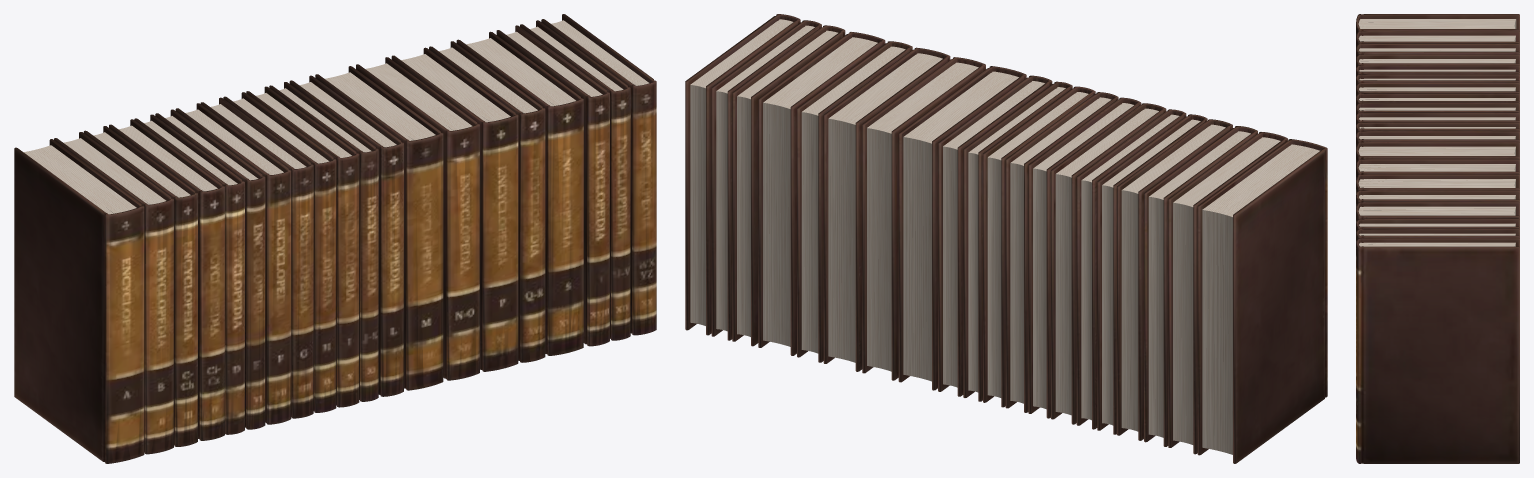
File: book_encyclopedia_set_01.glb
3 renders of one model, left to right at view 1: azimuth 30°, elevation 25°; view 2: azimuth 150°, elevation 25°; view 3: azimuth 270°, elevation 25°, orthographic. The views are drawn at different scales.
Parts seen in each view (by area): view 1: Cube.004; view 2: Cube.004; view 3: Cube.004.
Boxes of the visible parts, x1,y1,x2,y2 form: Cube.004: [14, 14, 656, 463]; Cube.004: [685, 14, 1327, 463]; Cube.004: [1356, 14, 1519, 463].
Size of the model in its own units: 0.5513 by 0.2374 by 0.1631.
2 materials, 2 textured.
